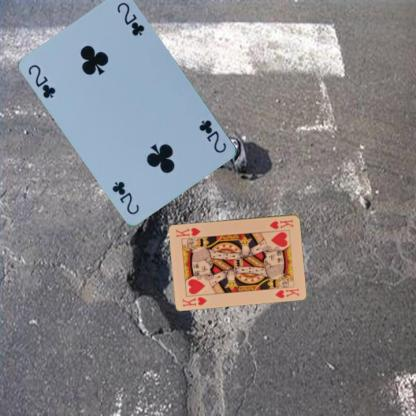2c: (26, 62, 58, 100), (197, 117, 228, 154)
Kh: (180, 294, 208, 308), (267, 217, 295, 230)
